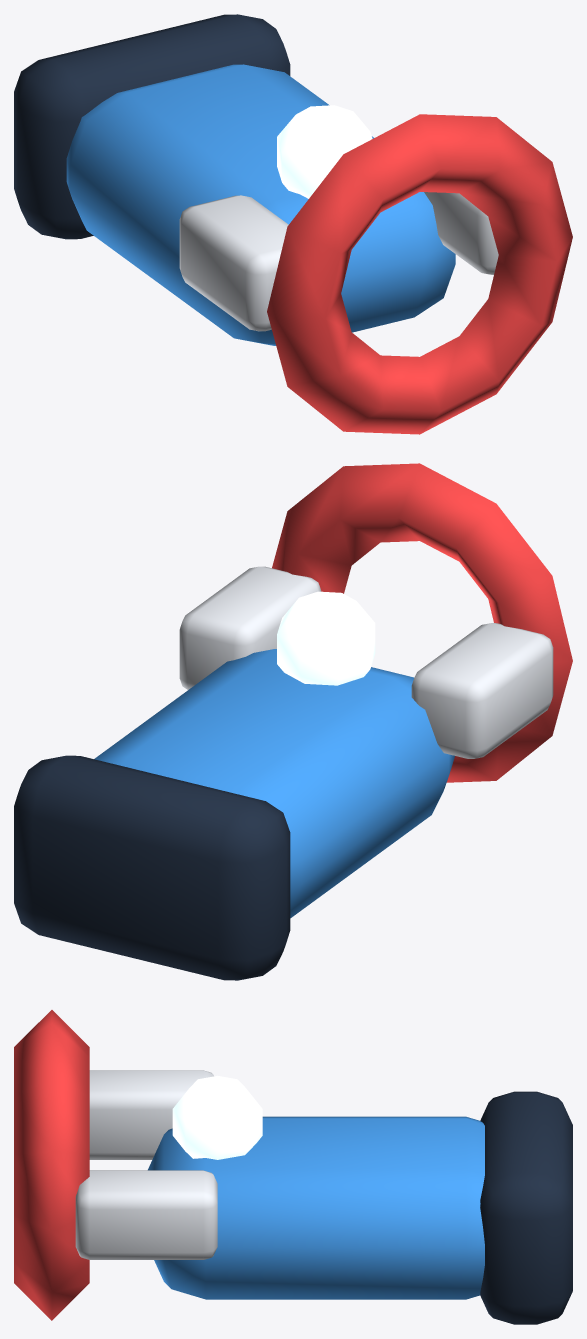
The model's file is MagnetGlove.fbx.
The picture shows the model from 3 angles, top to bottom: view 1: azimuth 30°, elevation 25°; view 2: azimuth 150°, elevation 25°; view 3: azimuth 270°, elevation 25°; orthographic projection. The views are drawn at different scales.
Parts seen in each view (by area): view 1: MagnetGlove; view 2: MagnetGlove; view 3: MagnetGlove.
Part boxes in pixels (<box>): MagnetGlove: <box>14,14,572,434</box>; MagnetGlove: <box>14,463,572,980</box>; MagnetGlove: <box>14,1010,572,1324</box>.
Size of the model in its own units: 0.132 by 0.132 by 0.236.
